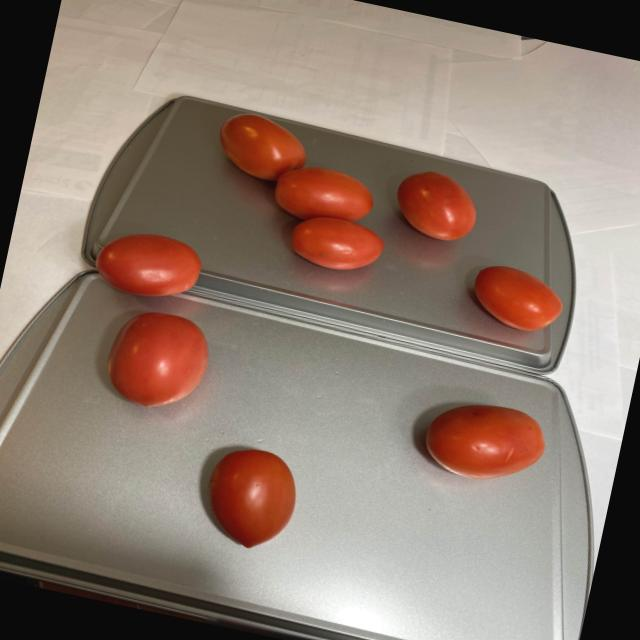tomato: (190, 108, 590, 335), (67, 223, 241, 421), (192, 438, 311, 561), (414, 390, 556, 490)
